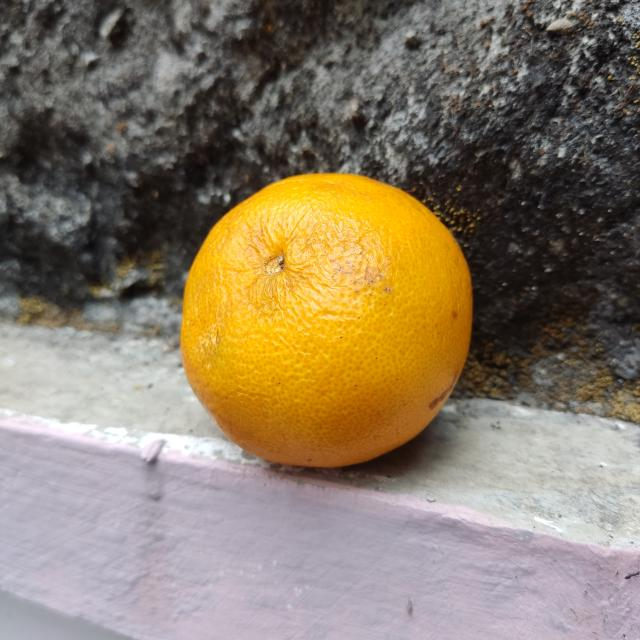orange: (174, 171, 477, 470)
